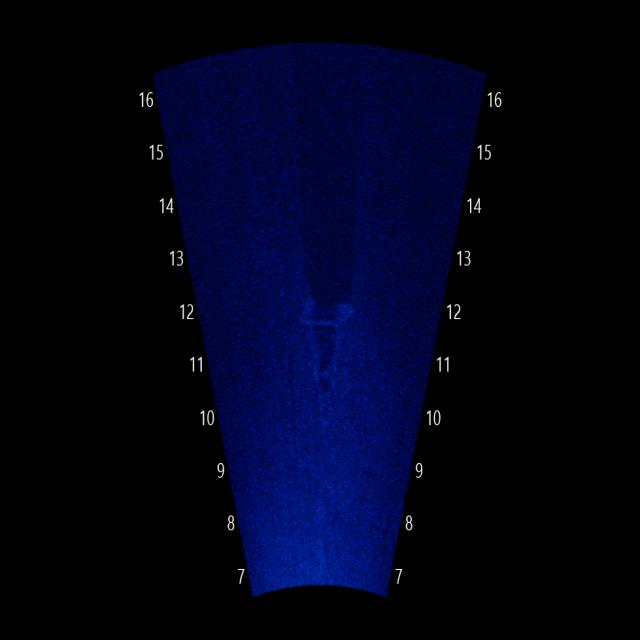triangle: (296, 283, 356, 438)
